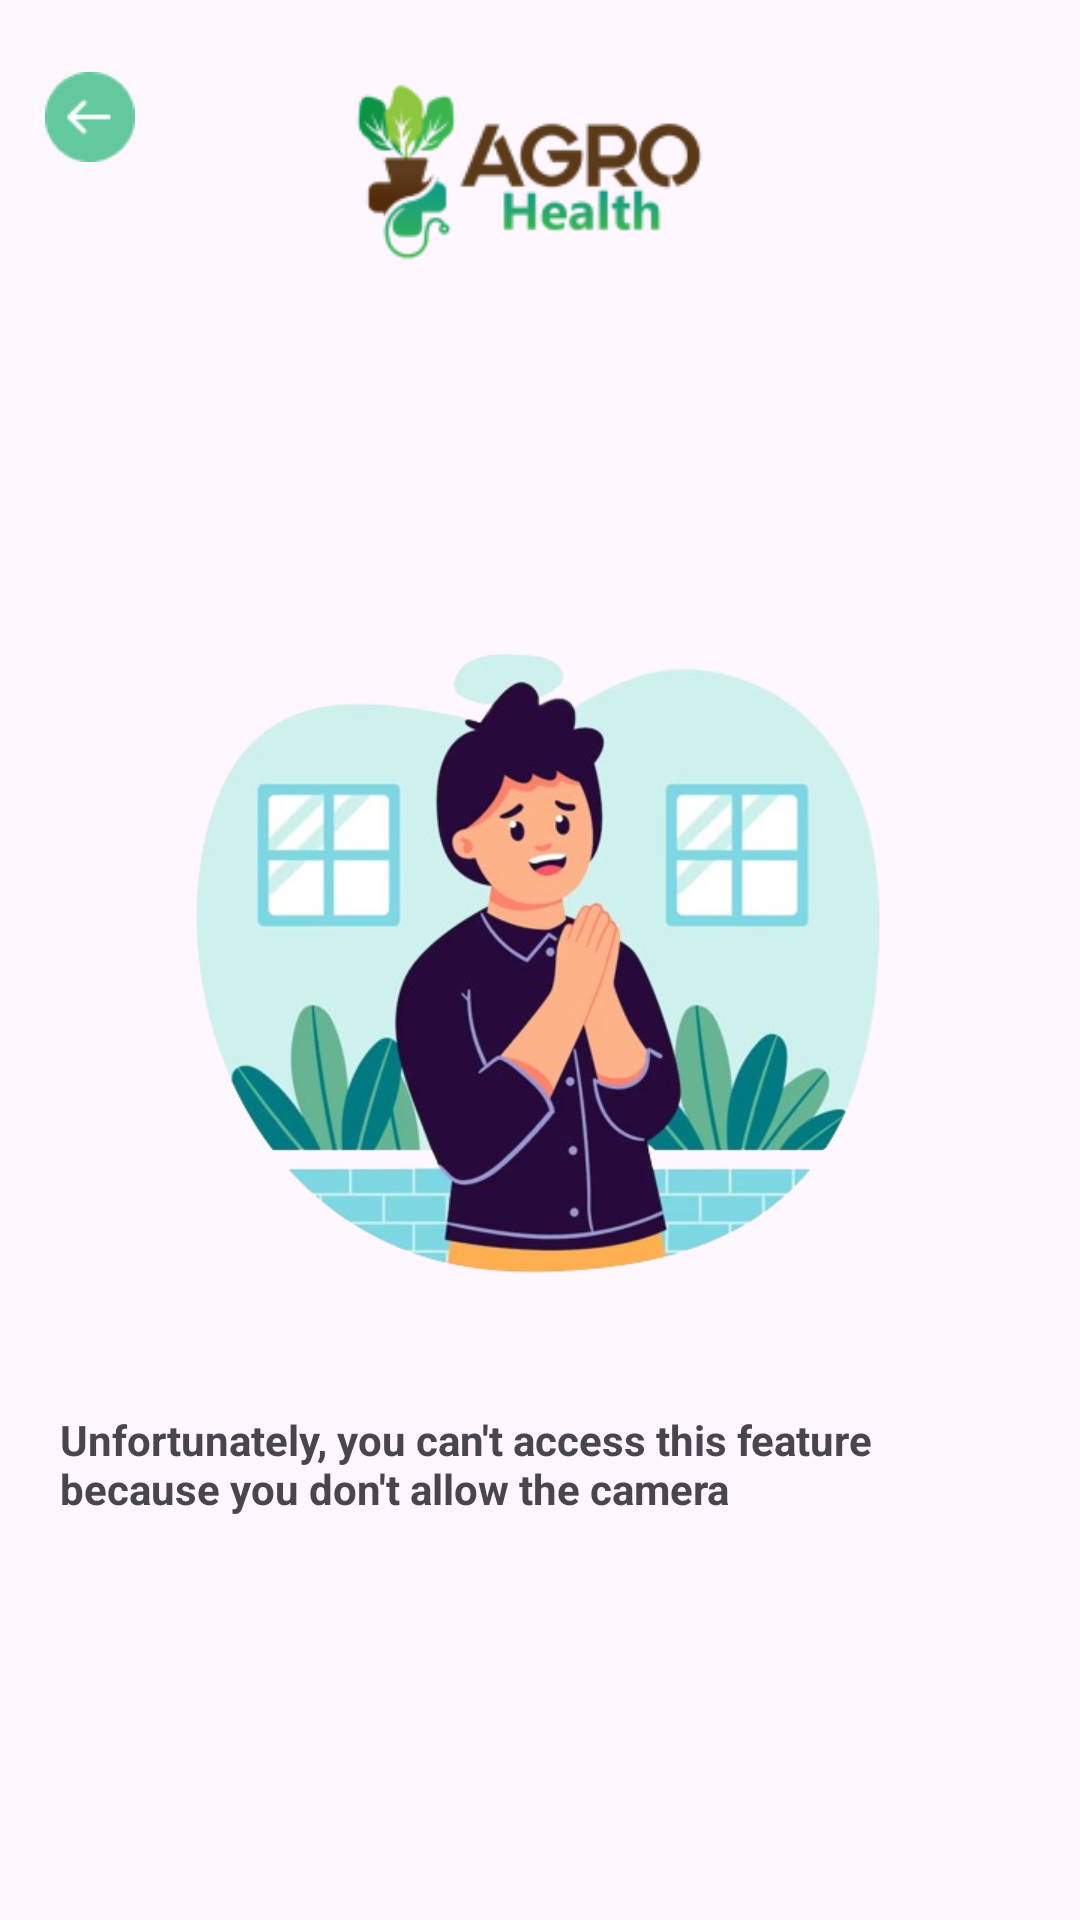

Screen size 1080px x 1920px. Icon name, then its box in pixels as [x1,y1,x2,y2]:
back: [45,72,135,162]
